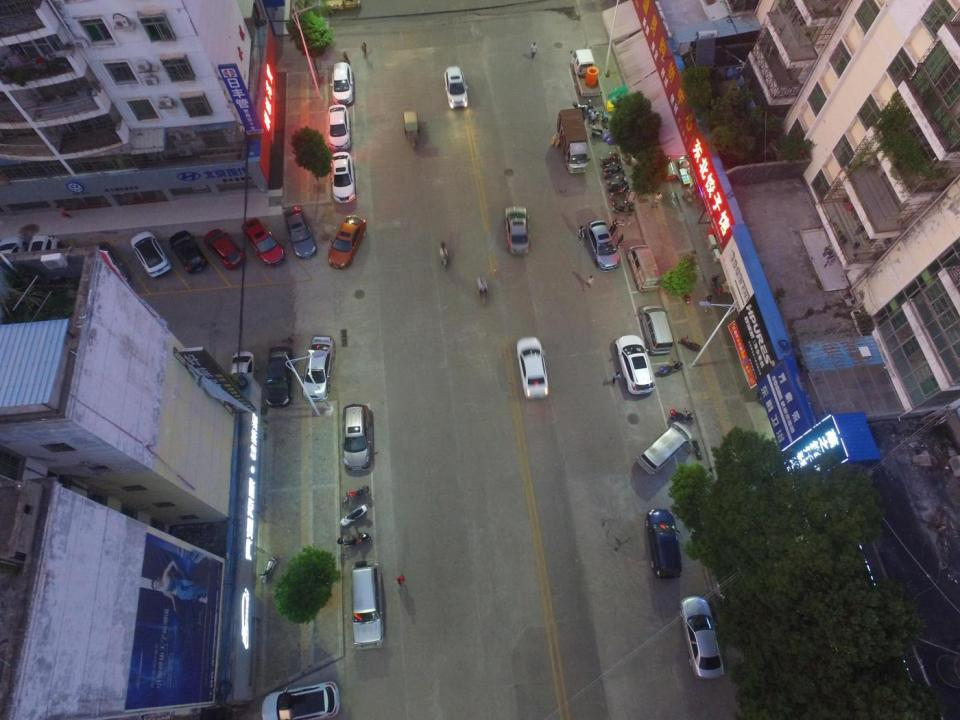car: (678, 596, 726, 680), (261, 681, 340, 720), (350, 560, 384, 650), (645, 508, 683, 578), (613, 335, 656, 395), (240, 217, 287, 267), (326, 216, 368, 270), (302, 336, 336, 401), (340, 403, 372, 471), (584, 220, 624, 272), (516, 336, 548, 399), (130, 231, 172, 278), (262, 346, 294, 407), (282, 205, 318, 259), (88, 242, 130, 288), (203, 228, 246, 271), (168, 229, 208, 274), (25, 233, 62, 280), (328, 151, 356, 204), (227, 350, 255, 400), (504, 205, 530, 256), (0, 235, 30, 275), (326, 104, 352, 150), (329, 62, 354, 105), (444, 65, 468, 109)
truck: (557, 108, 591, 174), (570, 47, 602, 97)
van: (636, 421, 692, 475), (638, 304, 674, 355), (627, 244, 662, 292)
